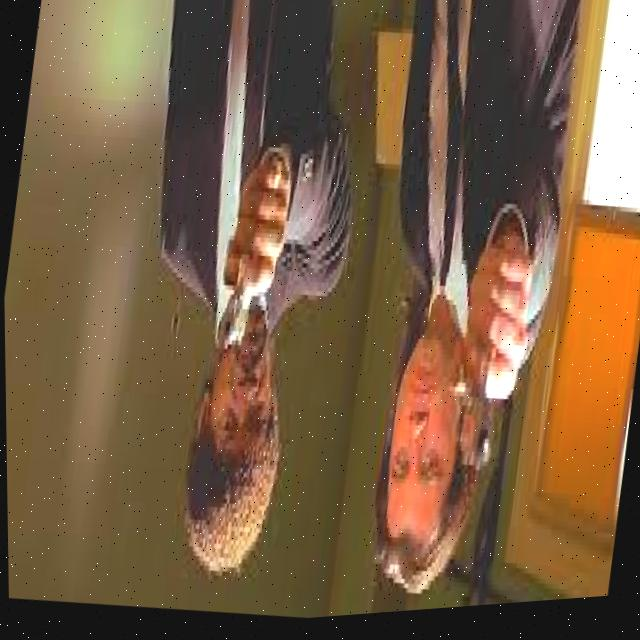pistol: (450, 340, 507, 489), (214, 248, 260, 357)
